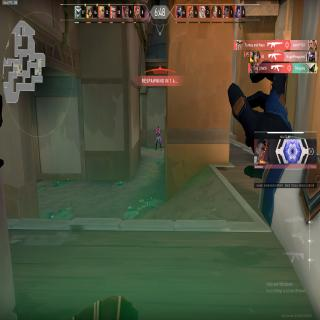ENEMY-BODY: (156, 125, 162, 151)
ENEMY-HEAD: (157, 126, 159, 131)
